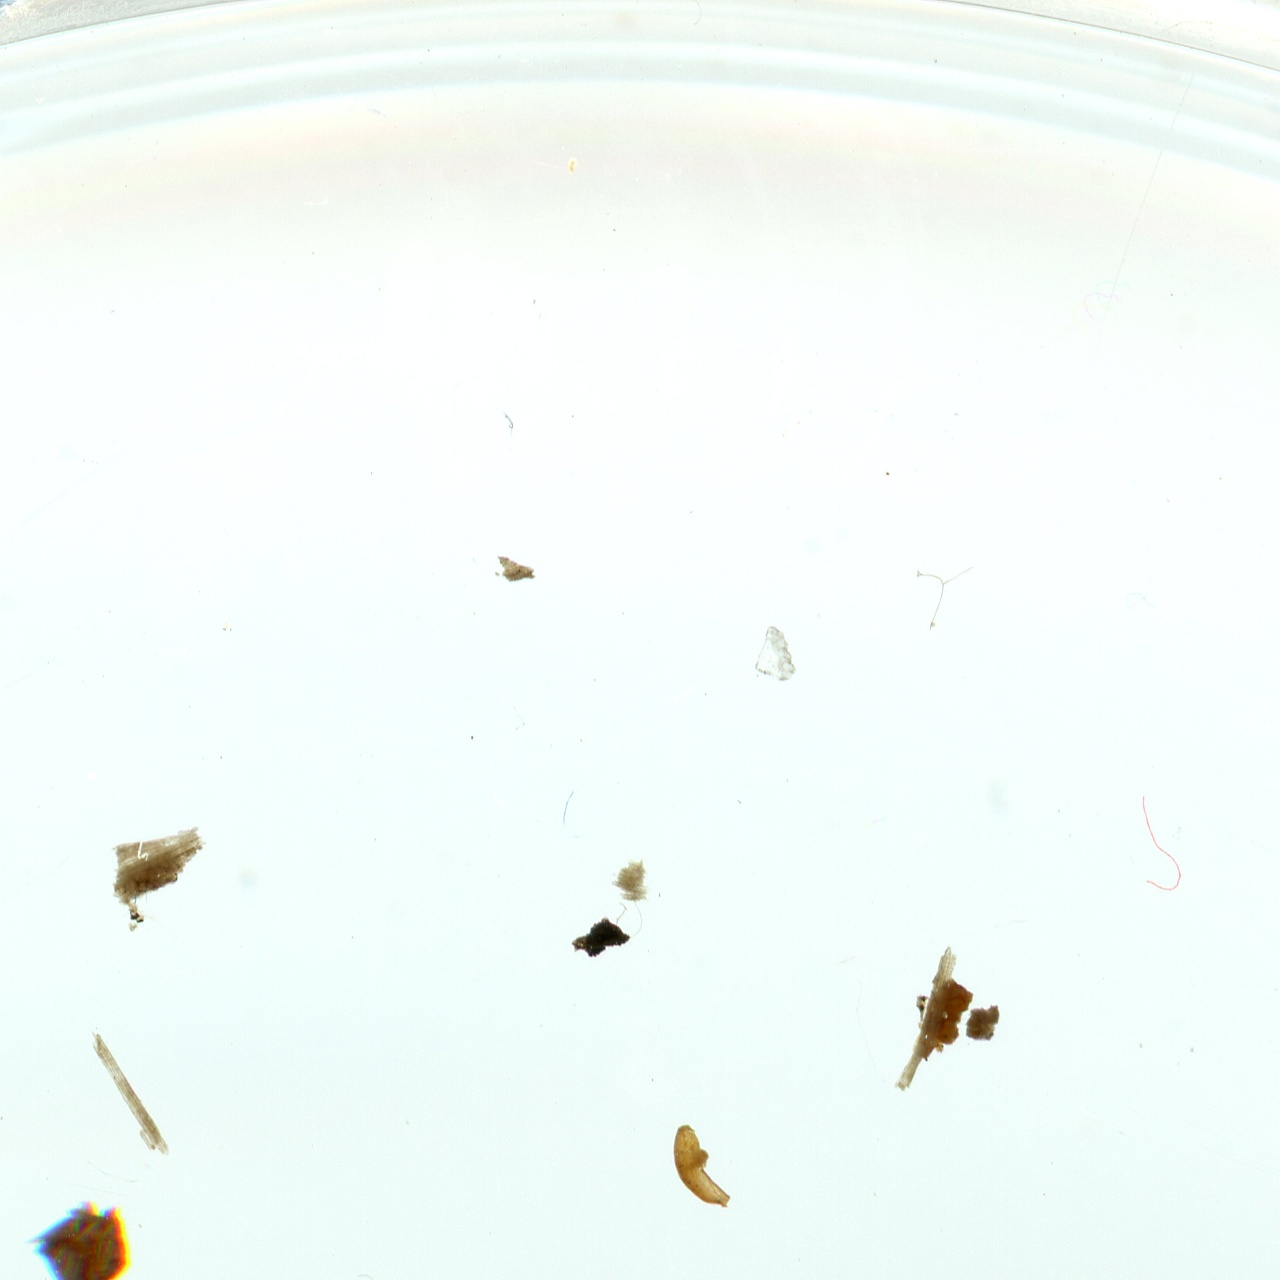arthropod: (294, 1269, 383, 1280)
